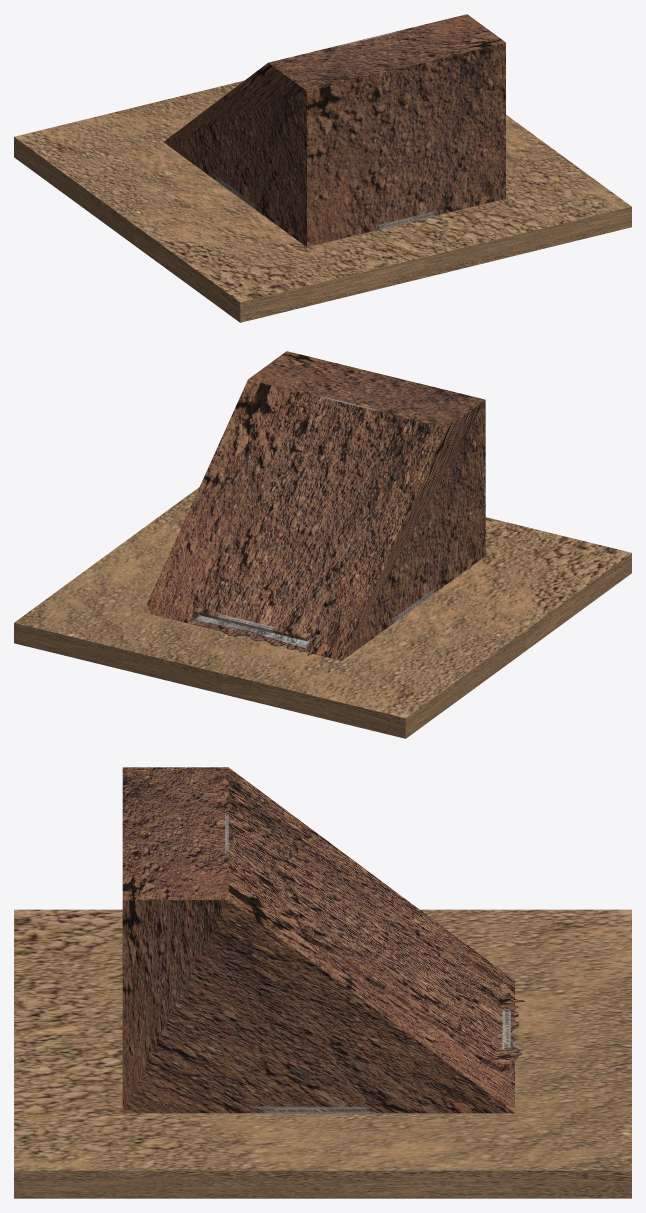
Rendered from 松散层蠕动.gltf.
3 renders of one model, top to bottom at view 1: azimuth 30°, elevation 25°; view 2: azimuth 150°, elevation 25°; view 3: azimuth 270°, elevation 25°, orthographic. The views are drawn at different scales.
Visible parts, largest first — view 1: node_Cube_-88660, node_Box001_-88652; view 2: node_Cube_-88660, node_Box001_-88652, node_001_-88658, node_002_-88654, node_001_-88656; view 3: node_Cube_-88660, node_Box001_-88652, node_001_-88658, node_002_-88654.
Boxes of the visible parts, x1,y1,x2,y2 form: node_Cube_-88660: (14,80,631,322); node_Box001_-88652: (163,14,505,246); node_Cube_-88660: (14,487,631,738); node_Box001_-88652: (143,351,485,660); node_001_-88658: (223,431,383,571); node_002_-88654: (192,534,338,641); node_001_-88656: (194,621,313,655); node_Cube_-88660: (14,909,631,1198); node_Box001_-88652: (122,767,514,1113); node_001_-88658: (272,841,418,1006); node_002_-88654: (407,927,510,1071).
Size of the model in its own units: 2 by 0.8621 by 2.
